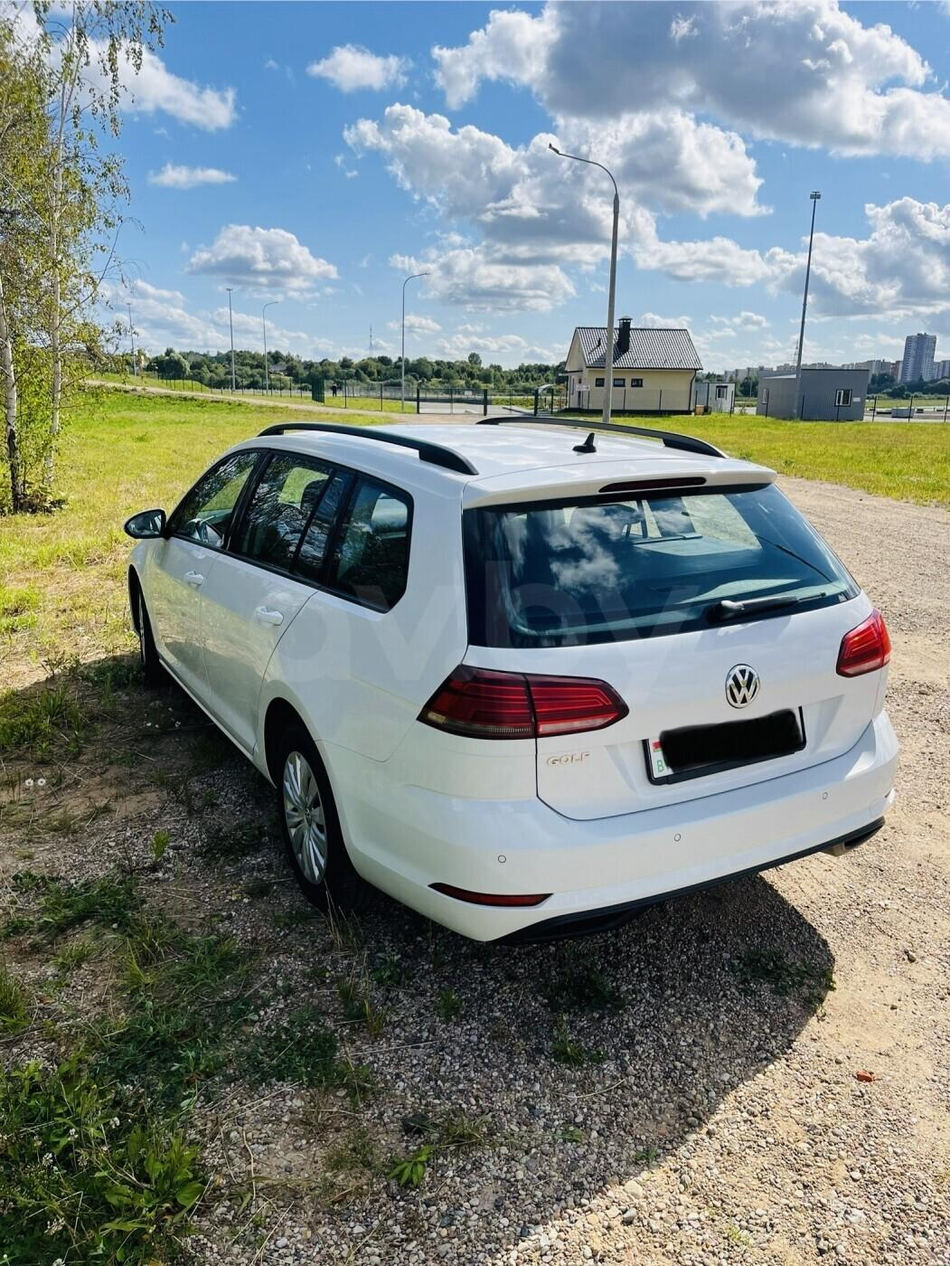Golf_2017-2021: (118, 412, 904, 951)
